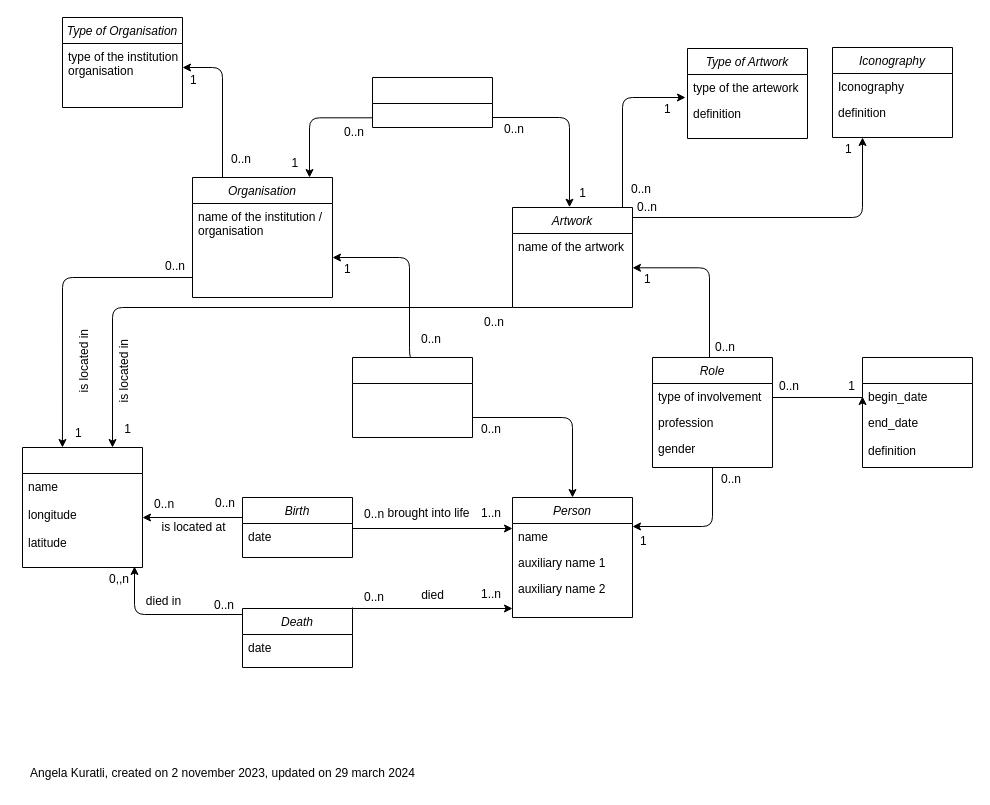
Image size: 990x805. Some labels were removed from this diagram. Each missing label, with the box of its shape:
Built for: (372, 76, 492, 128)
Date of involvement: (862, 356, 972, 468)
Geographical place: (22, 446, 142, 568)
Member of: (352, 356, 472, 438)
